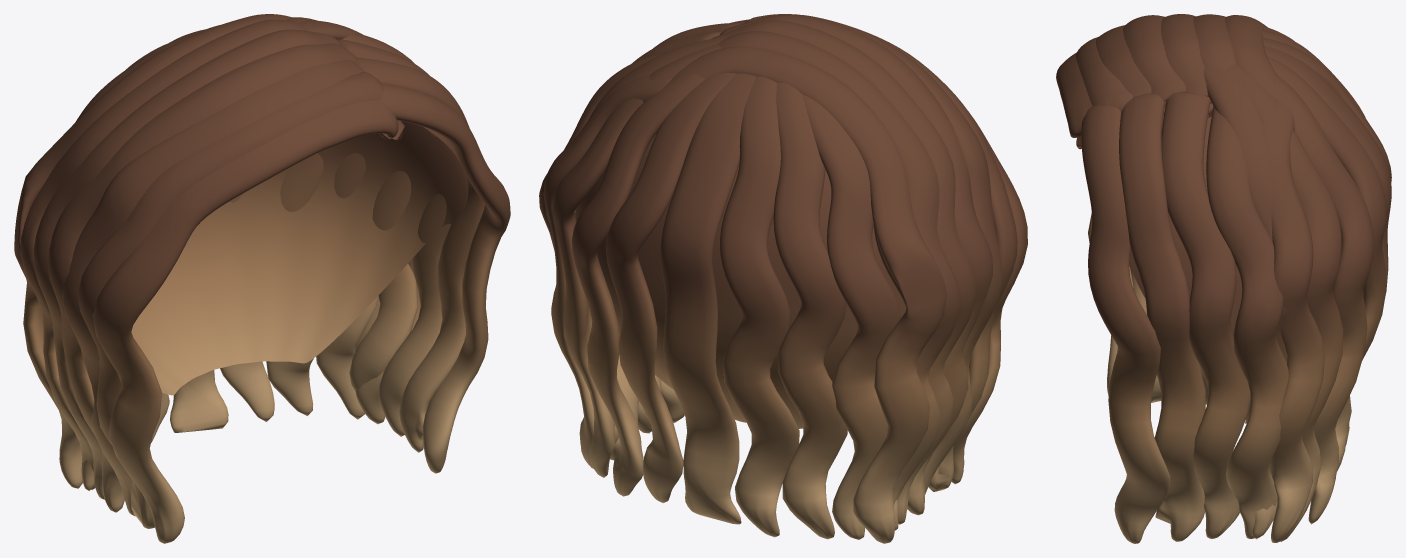
Rendered from Feminine-curls-pashmina261-hair-ombre.glb.
The picture shows the model from 3 angles, left to right: view 1: azimuth 30°, elevation 25°; view 2: azimuth 150°, elevation 25°; view 3: azimuth 270°, elevation 25°; orthographic projection.
Parts seen in each view (by area): view 1: 226 hair / Hair / sculpted 0.001, 226 hair / Hair / sculpted 1.001, 226 hair / Hair / sculpted 1.002, 226 hair / Hair / sculpted 2.001; view 2: 226 hair / Hair / sculpted 2.001, 226 hair / Hair / sculpted 0.001, 226 hair / Hair / sculpted 1.002, 226 hair / Hair / sculpted 1.001; view 3: 226 hair / Hair / sculpted 1.002, 226 hair / Hair / sculpted 2.001, 226 hair / Hair / sculpted 0.001, 226 hair / Hair / sculpted 1.001.
Boxes of the visible parts, x1,y1,x2,y2 form: 226 hair / Hair / sculpted 0.001: (14, 14, 450, 543); 226 hair / Hair / sculpted 1.001: (131, 122, 468, 395); 226 hair / Hair / sculpted 1.002: (33, 20, 510, 528); 226 hair / Hair / sculpted 2.001: (20, 17, 484, 516); 226 hair / Hair / sculpted 2.001: (543, 14, 1003, 539); 226 hair / Hair / sculpted 0.001: (572, 14, 1027, 543); 226 hair / Hair / sculpted 1.002: (539, 14, 1017, 539); 226 hair / Hair / sculpted 1.001: (575, 133, 905, 428); 226 hair / Hair / sculpted 1.002: (1076, 14, 1386, 543); 226 hair / Hair / sculpted 2.001: (1095, 14, 1391, 542); 226 hair / Hair / sculpted 0.001: (1056, 15, 1391, 538); 226 hair / Hair / sculpted 1.001: (1129, 115, 1250, 423).
Size of the model in its own units: 1.09 by 1.12 by 0.769.
